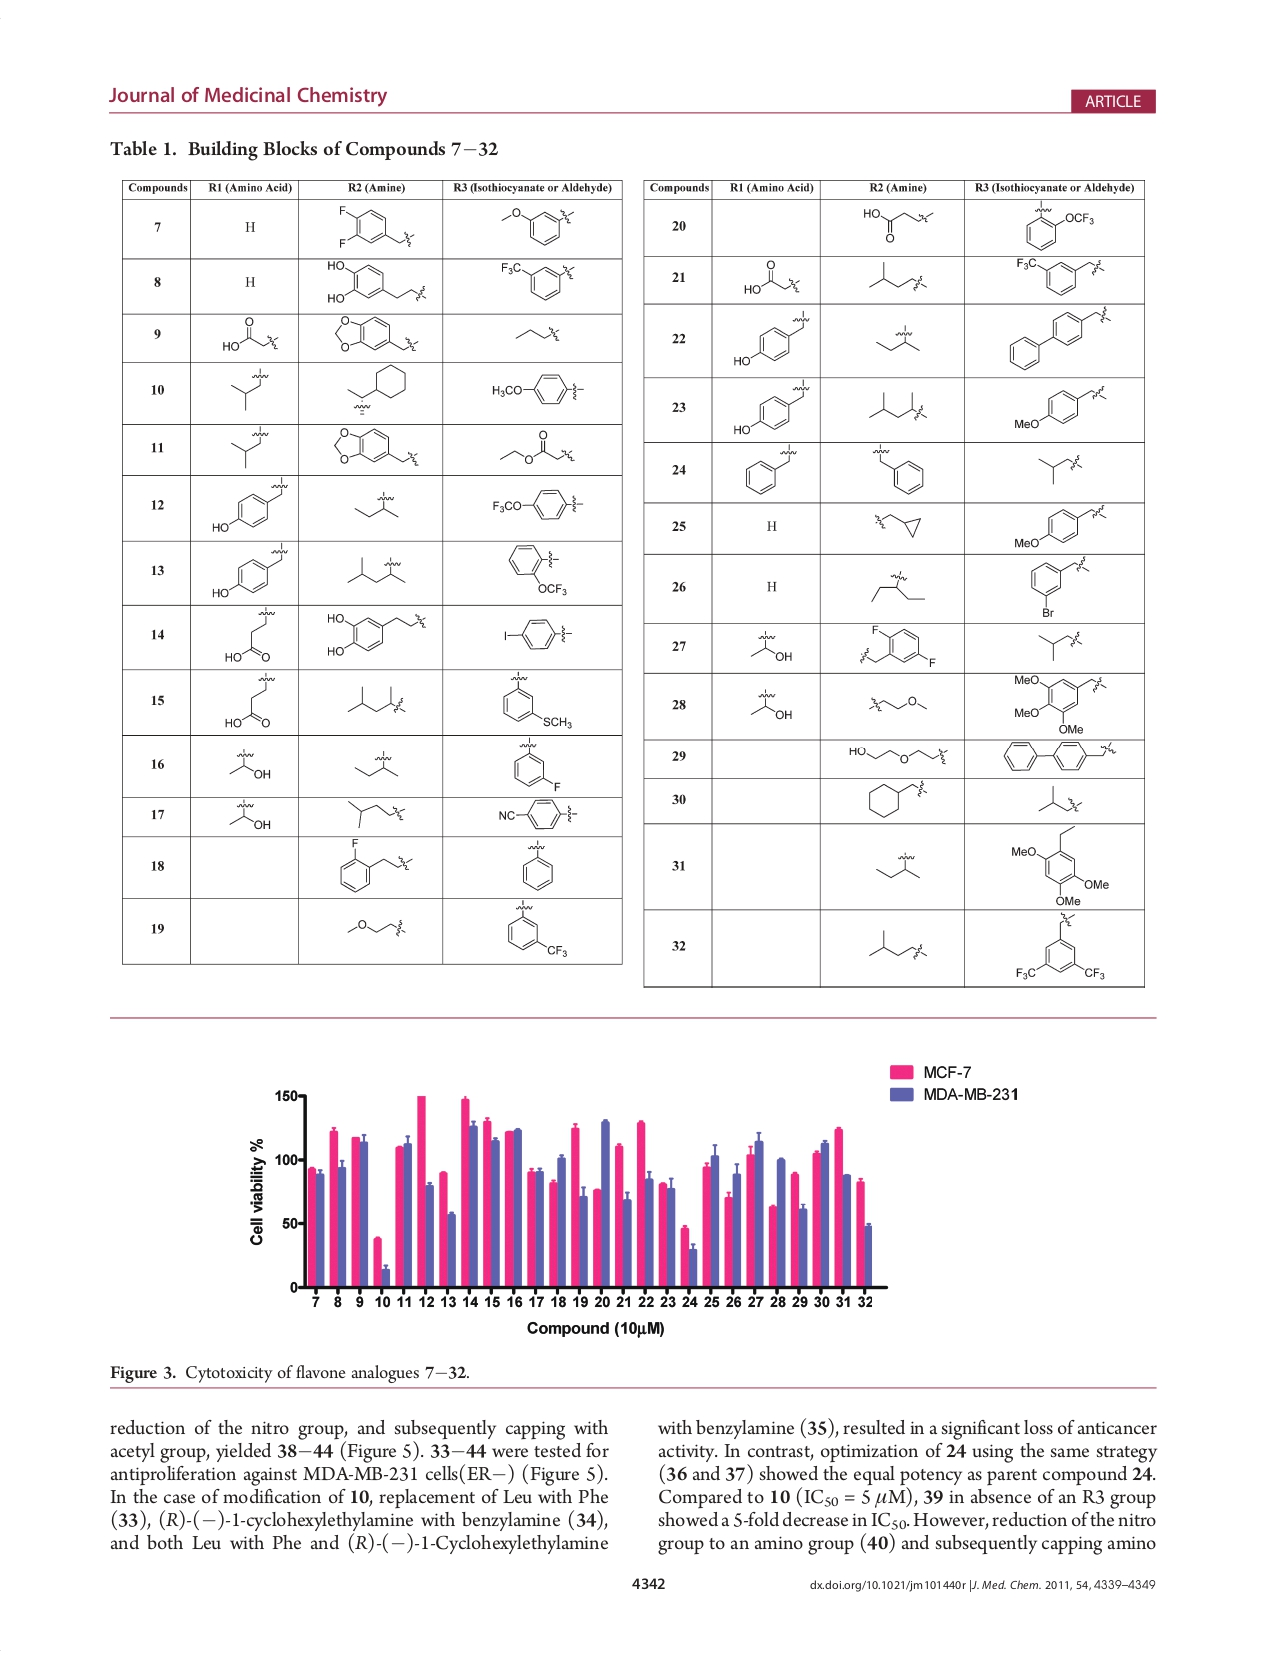exist_molecular: (1009, 825, 1110, 906), (1011, 910, 1109, 981), (1005, 306, 1112, 371), (1009, 674, 1110, 735), (1005, 382, 1110, 434), (323, 609, 428, 660), (730, 309, 813, 371), (729, 376, 810, 438), (324, 259, 430, 305), (499, 670, 574, 731), (209, 541, 289, 598), (336, 836, 415, 894), (1009, 504, 1106, 549), (1027, 555, 1090, 618), (505, 899, 572, 960), (332, 202, 415, 251), (489, 370, 590, 410), (330, 426, 422, 469), (1012, 255, 1106, 298), (332, 313, 422, 356), (1003, 739, 1116, 773), (489, 485, 586, 524), (856, 622, 939, 668), (1023, 199, 1094, 251), (497, 258, 577, 305), (505, 543, 572, 598), (499, 205, 578, 250), (343, 364, 410, 418), (860, 919, 935, 965), (221, 672, 278, 731), (508, 735, 565, 794), (856, 205, 938, 245), (221, 606, 277, 664), (495, 428, 578, 465), (868, 443, 926, 497), (864, 384, 932, 428), (742, 442, 797, 496), (501, 614, 574, 654), (497, 798, 578, 833), (864, 569, 928, 613), (843, 743, 953, 769), (739, 257, 803, 298), (344, 680, 411, 718), (344, 549, 408, 589), (866, 778, 930, 818), (864, 259, 930, 295), (222, 317, 281, 356), (226, 366, 271, 414), (350, 746, 406, 785), (743, 684, 797, 723), (871, 321, 923, 360), (1035, 451, 1088, 489), (225, 743, 274, 785), (344, 801, 408, 831), (350, 487, 403, 523), (520, 839, 556, 892), (868, 509, 926, 543), (1035, 629, 1086, 665), (1035, 781, 1086, 817), (743, 629, 799, 662), (230, 426, 271, 469), (859, 689, 930, 714), (875, 846, 922, 880), (227, 798, 275, 831), (343, 916, 410, 940), (515, 318, 563, 348)
